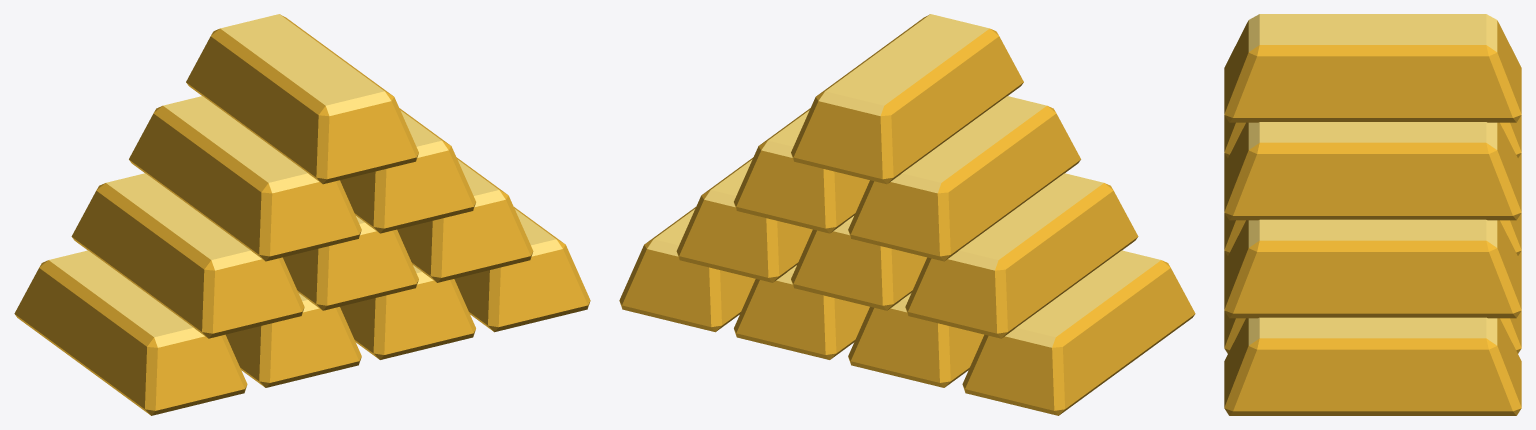
Rendered from Res_IngotStack_Gold.fbx.
The picture shows the model from 3 angles, left to right: view 1: azimuth 30°, elevation 25°; view 2: azimuth 150°, elevation 25°; view 3: azimuth 270°, elevation 25°; orthographic projection. The views are drawn at different scales.
Visible parts, largest first — view 1: Res_IngotStack_Gold; view 2: Res_IngotStack_Gold; view 3: Res_IngotStack_Gold.
Part boxes in pixels (x1,y1,x2,y2): Res_IngotStack_Gold: (14, 14, 590, 415); Res_IngotStack_Gold: (619, 14, 1195, 415); Res_IngotStack_Gold: (1224, 14, 1521, 415).
Size of the model in its own units: 0.5457 by 0.297 by 0.2941.
